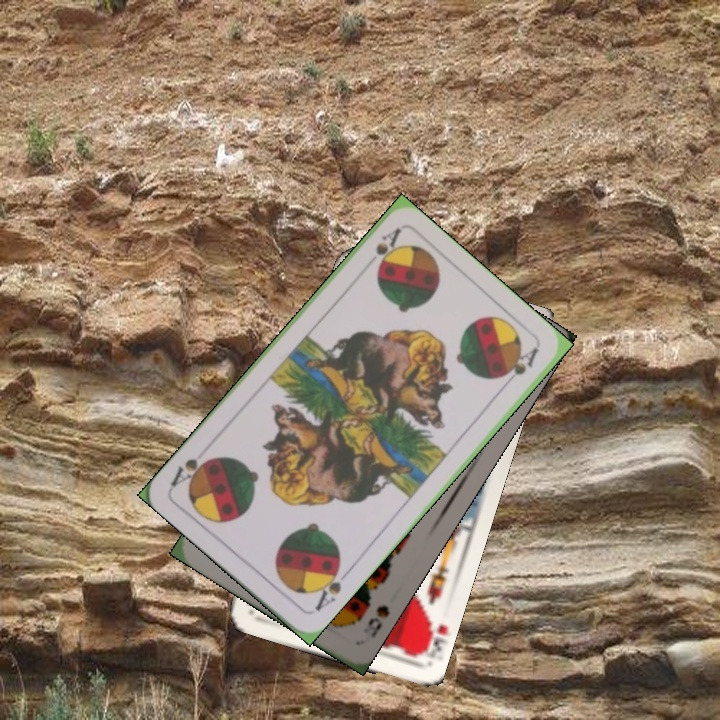HK: (413, 610, 450, 661)
S8: (363, 601, 392, 641)
SA: (310, 559, 352, 614), (359, 224, 403, 274)
